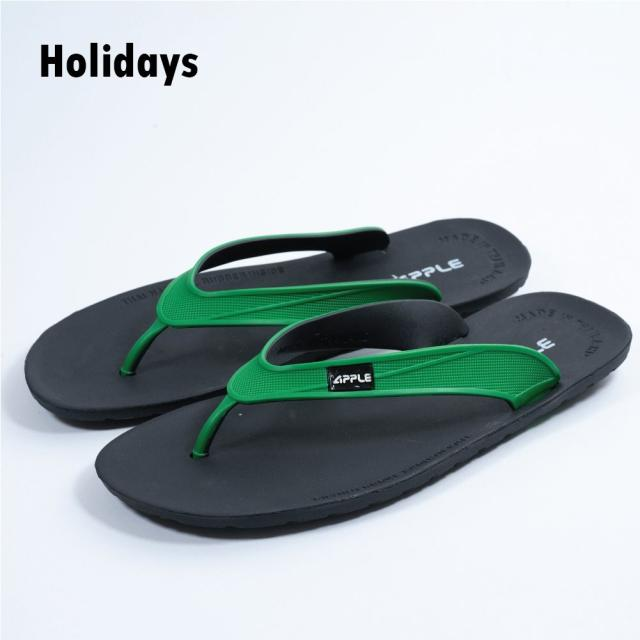Sandals: (22, 193, 630, 584)
